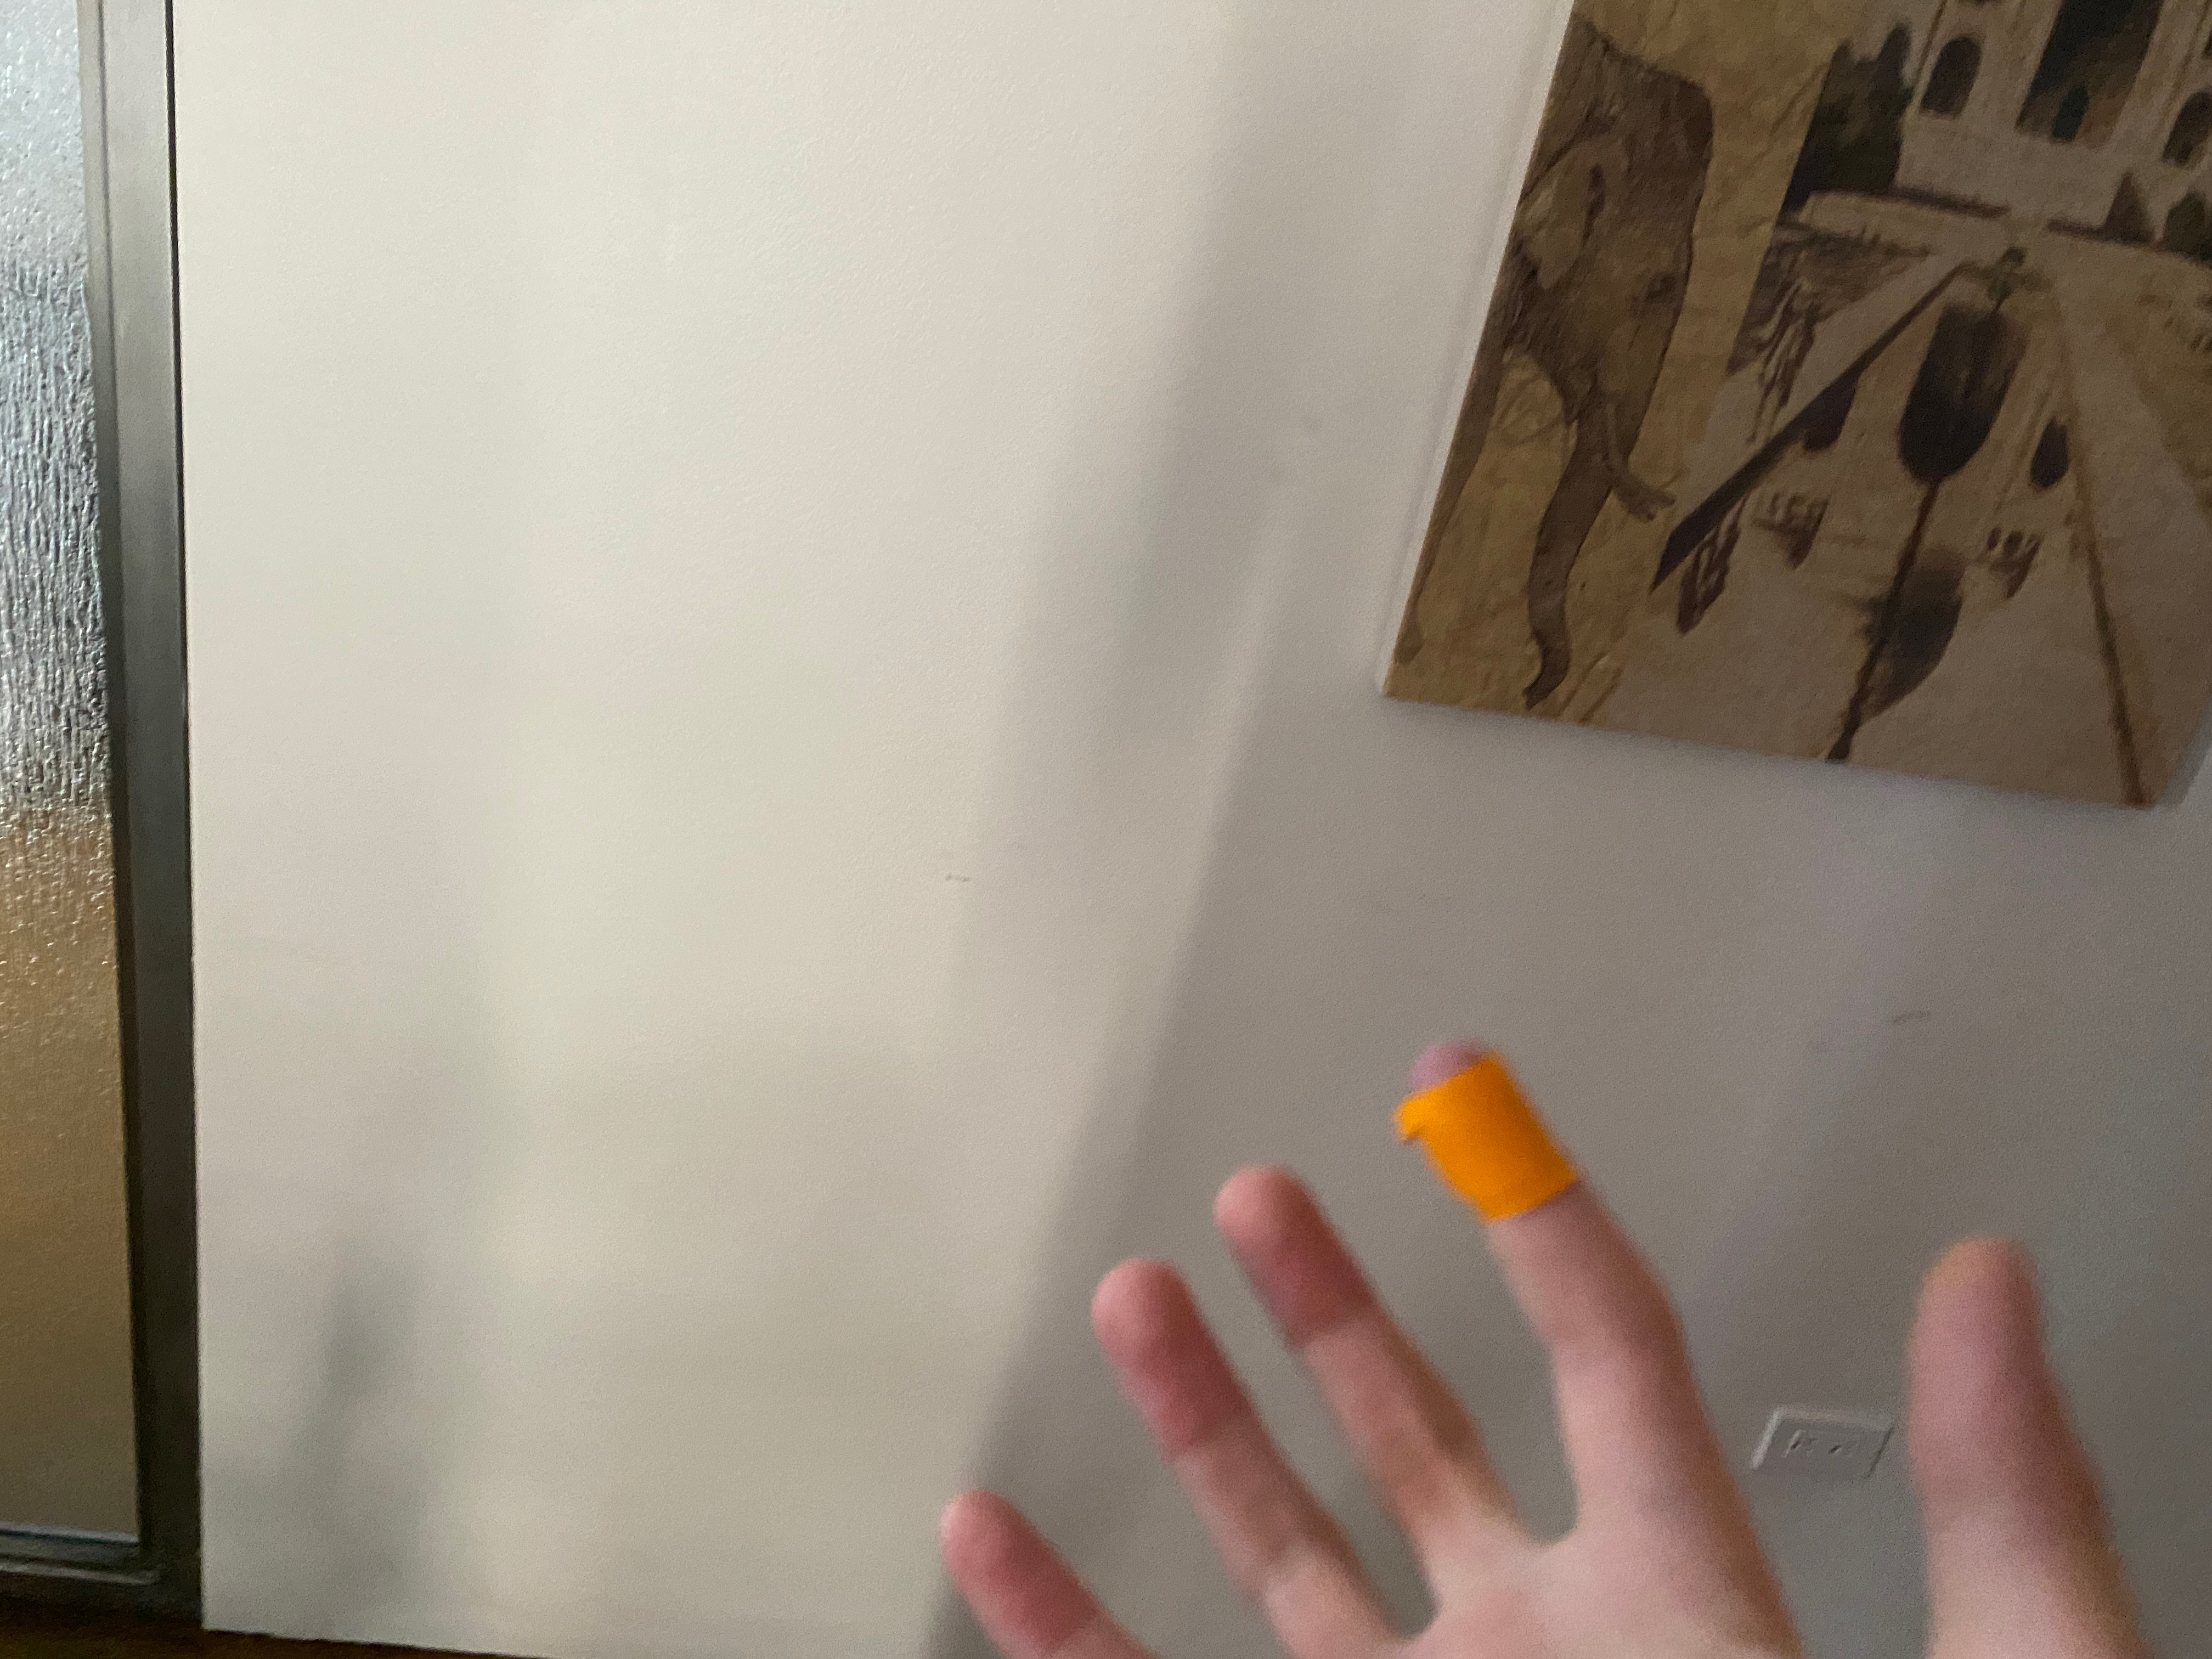fingertip: (1386, 1025, 1606, 1236)
